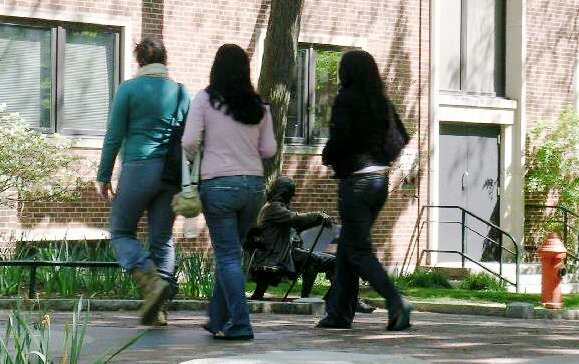person: (320, 47, 425, 336), (183, 41, 280, 342), (96, 32, 188, 323)
